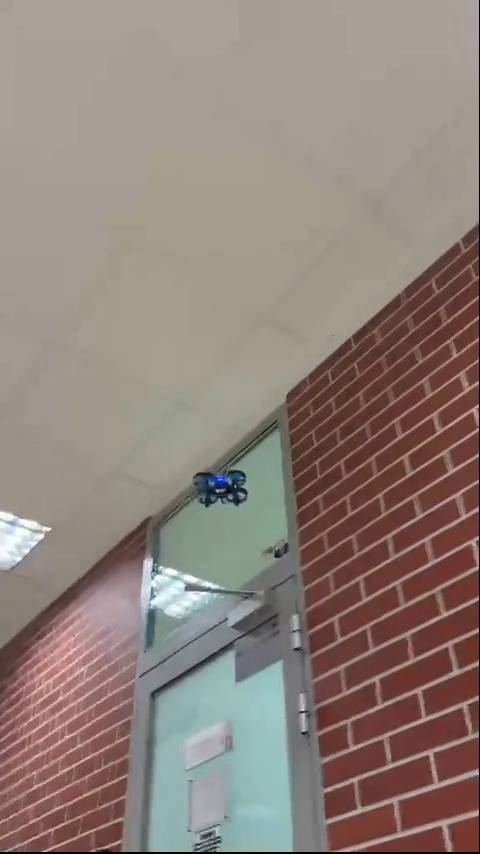drone: (194, 464, 253, 509)
